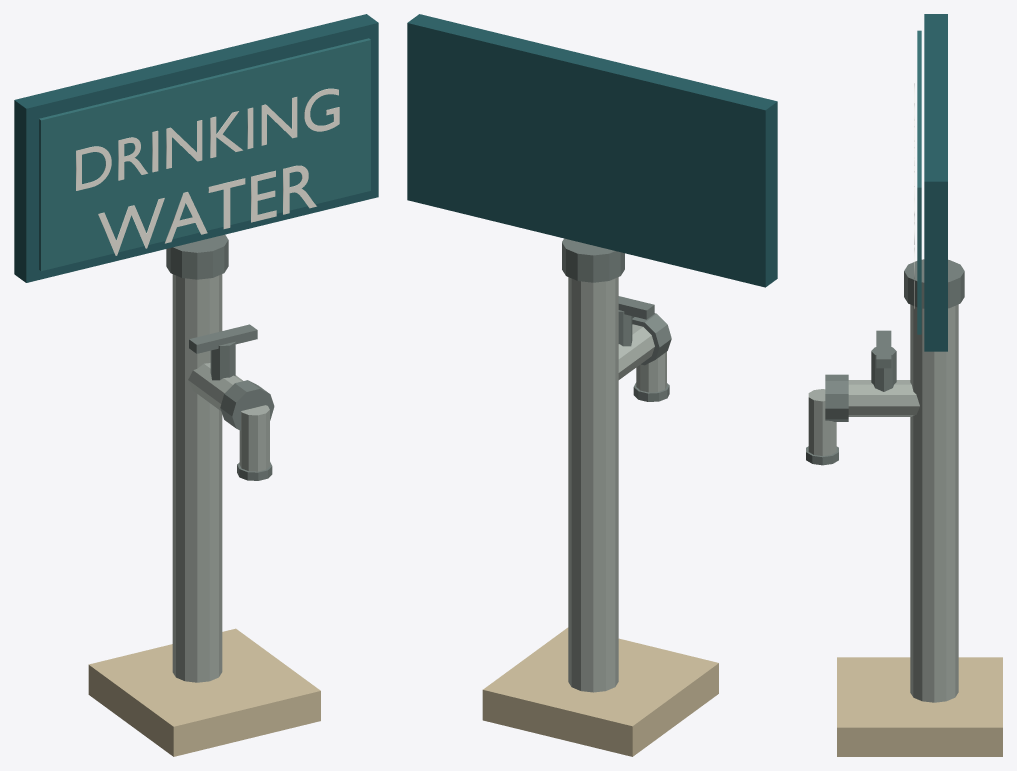
The model's file is lwf_free_water_point_v3.glb.
The picture shows the model from 3 angles, left to right: view 1: azimuth 30°, elevation 25°; view 2: azimuth 150°, elevation 25°; view 3: azimuth 270°, elevation 25°; orthographic projection. The views are drawn at different scales.
Visible parts, largest first — view 1: LWF_FreeWaterV3_SignBoard, LWF_FreeWaterV3_OneTapStandpipe, LWF_FreeWaterV3_ConcreteFoot, LWF_FreeWaterV3_Text_DRINKING, LWF_FreeWaterV3_Text_WATER; view 2: LWF_FreeWaterV3_SignBoard, LWF_FreeWaterV3_OneTapStandpipe, LWF_FreeWaterV3_ConcreteFoot; view 3: LWF_FreeWaterV3_OneTapStandpipe, LWF_FreeWaterV3_ConcreteFoot, LWF_FreeWaterV3_SignBoard.
Boxes of the visible parts, x1,y1,x2,y2 form: LWF_FreeWaterV3_SignBoard: [14, 14, 378, 282]; LWF_FreeWaterV3_OneTapStandpipe: [166, 234, 274, 682]; LWF_FreeWaterV3_ConcreteFoot: [88, 628, 320, 756]; LWF_FreeWaterV3_Text_DRINKING: [76, 88, 339, 190]; LWF_FreeWaterV3_Text_WATER: [98, 165, 316, 255]; LWF_FreeWaterV3_SignBoard: [407, 14, 777, 287]; LWF_FreeWaterV3_OneTapStandpipe: [562, 238, 671, 692]; LWF_FreeWaterV3_ConcreteFoot: [482, 627, 718, 756]; LWF_FreeWaterV3_OneTapStandpipe: [806, 259, 964, 702]; LWF_FreeWaterV3_ConcreteFoot: [837, 657, 1002, 756]; LWF_FreeWaterV3_SignBoard: [917, 14, 947, 351].
Size of the model in its own units: 1.1 by 1.91 by 0.5457.
2 materials, 1 textured.
